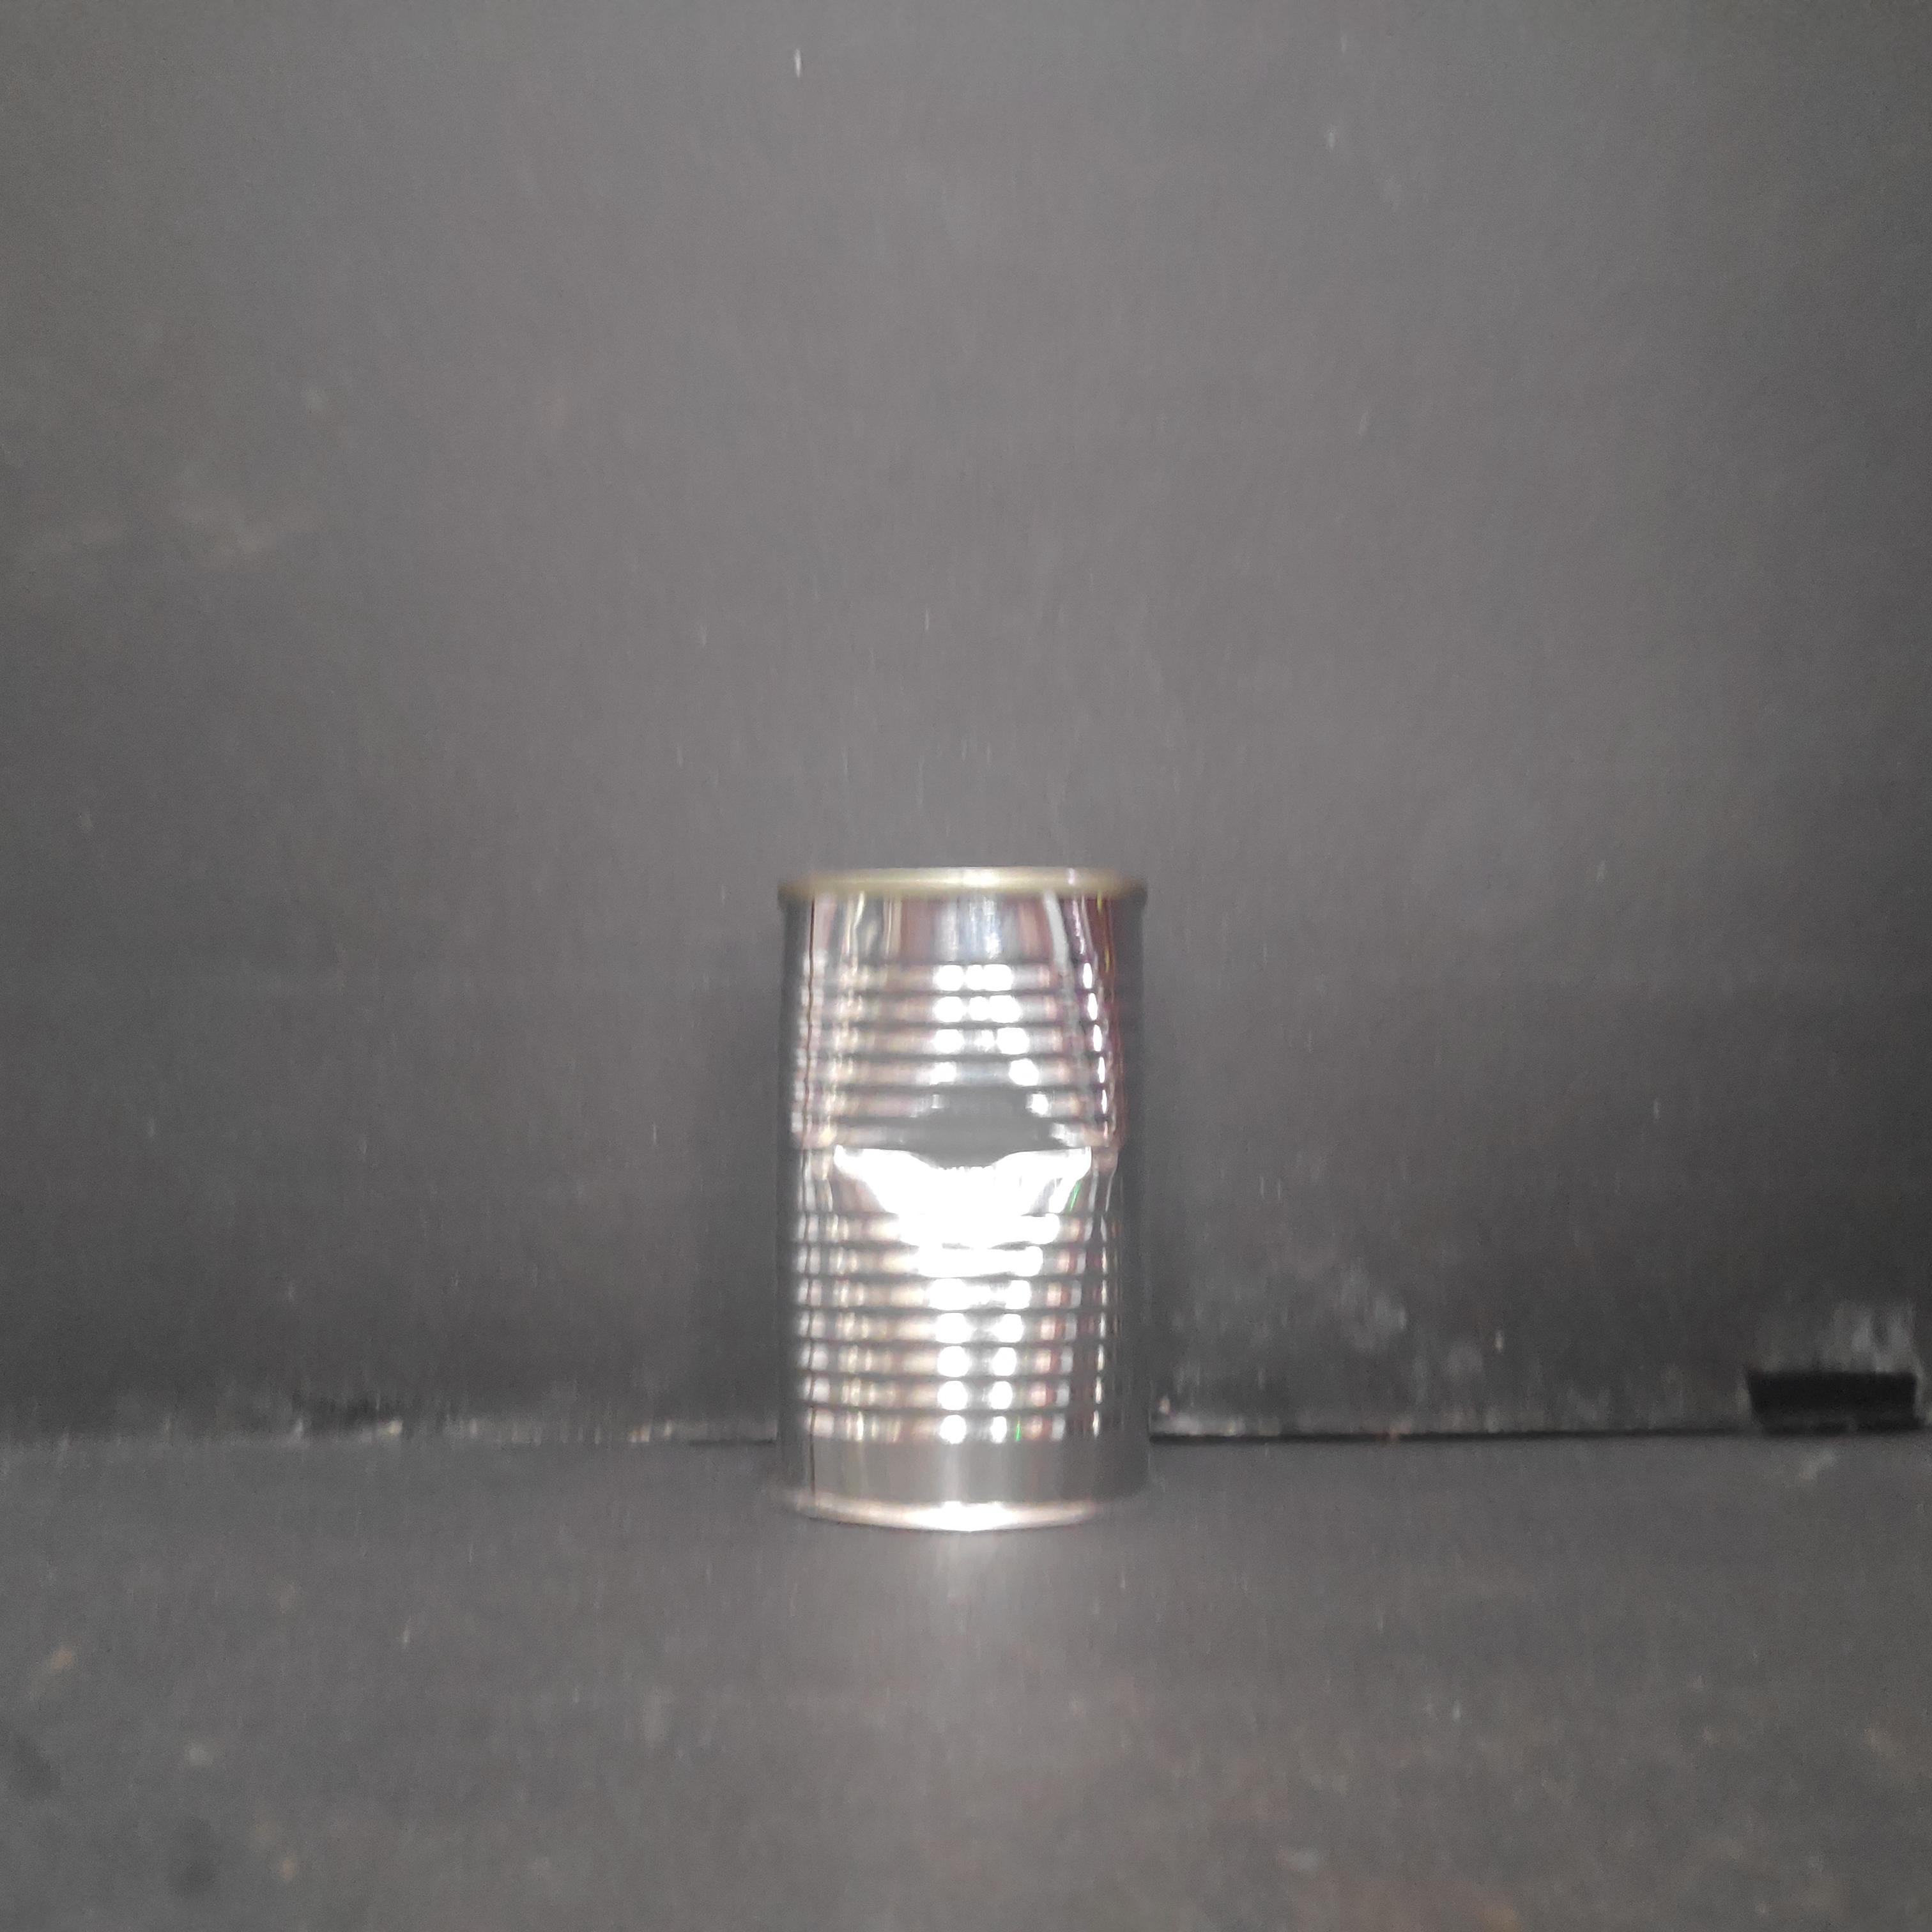Minor Defect: (761, 860, 1168, 1546)
